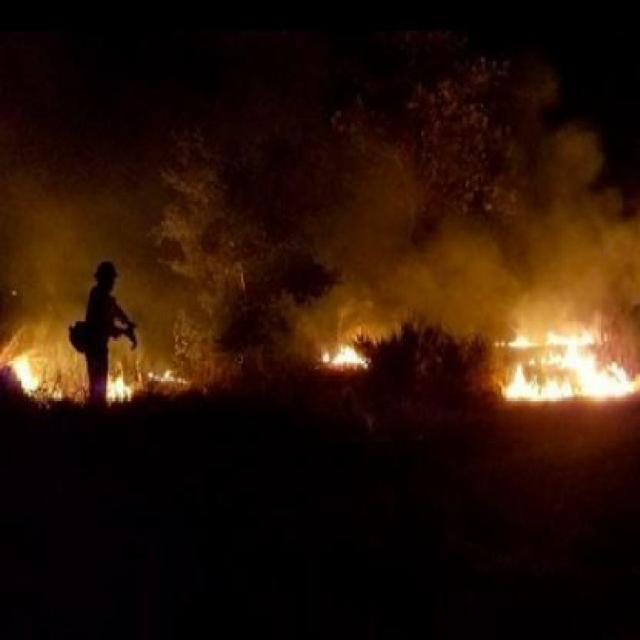Fire: (499, 318, 638, 407), (11, 346, 44, 406), (319, 344, 378, 372), (103, 373, 132, 398)
Smoke: (348, 172, 494, 340), (503, 141, 640, 317)
